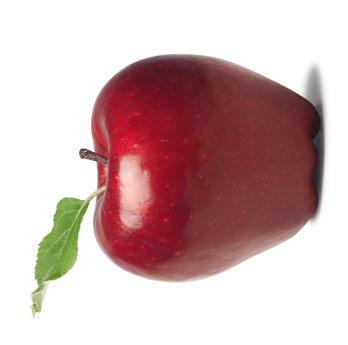apple: (0, 0, 348, 345)
